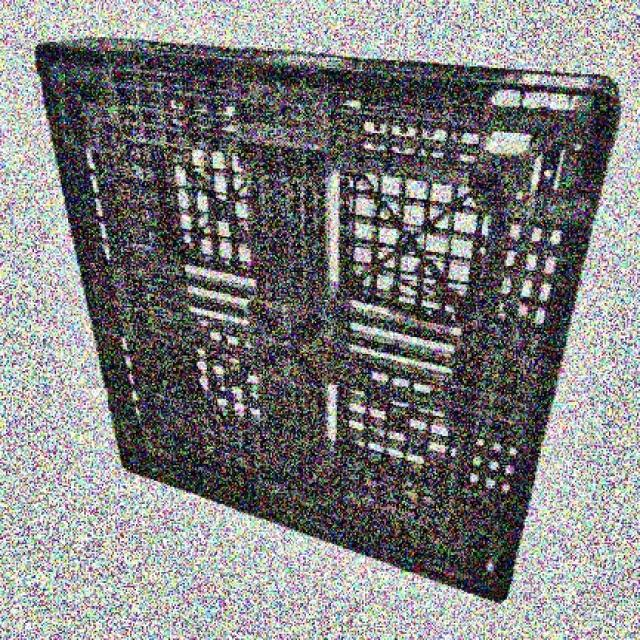non-igps: (33, 31, 622, 608)
